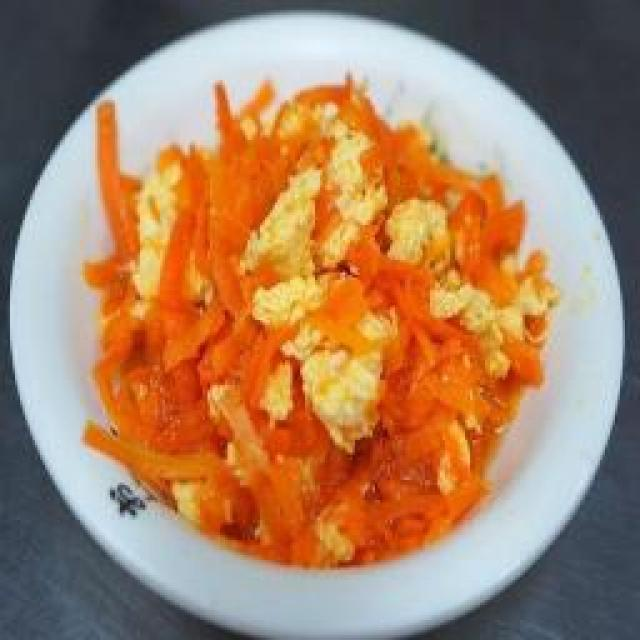Wet Waste: (95, 80, 543, 542)
